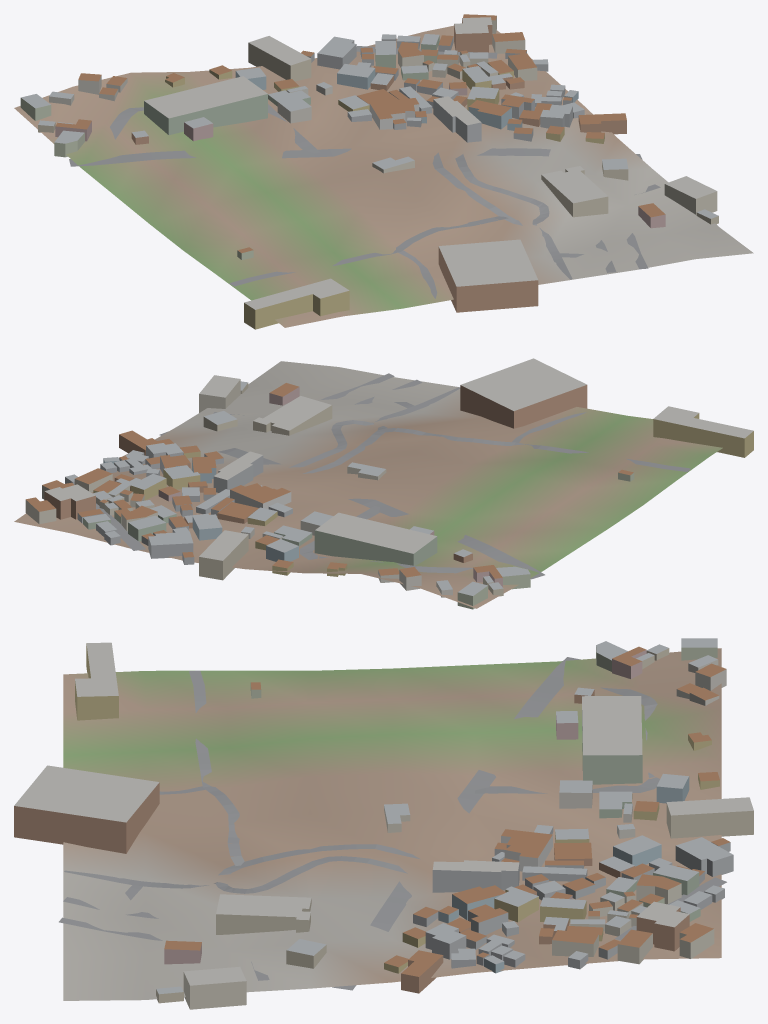
The picture shows the model from 3 angles, top to bottom: view 1: azimuth 30°, elevation 25°; view 2: azimuth 150°, elevation 25°; view 3: azimuth 270°, elevation 25°; orthographic projection. The views are drawn at different scales.
Visible parts, largest first — view 1: Lo; view 2: Lo; view 3: Lo.
Part boxes in pixels (x1,y1,x2,y2): Lo: (14,14,753,329); Lo: (14,358,753,609); Lo: (14,638,753,1009).
Size of the model in its own units: 277 by 40.64 by 288.
